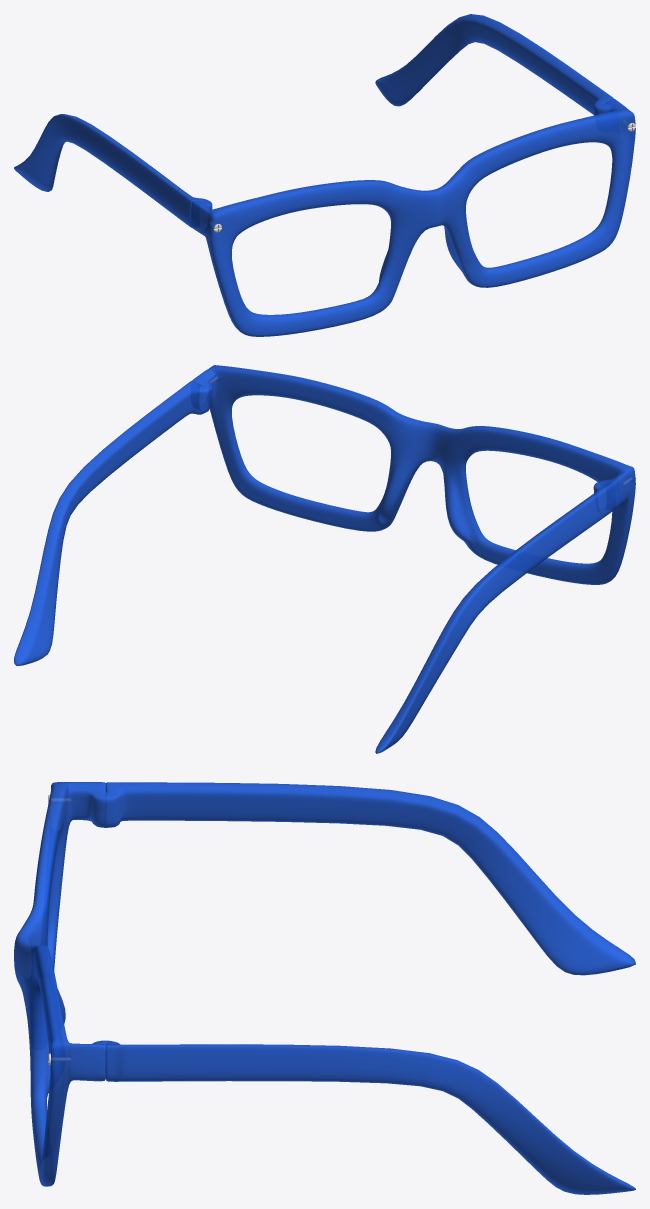
3 renders of one model, top to bottom at view 1: azimuth 30°, elevation 25°; view 2: azimuth 150°, elevation 25°; view 3: azimuth 270°, elevation 25°, orthographic. The views are drawn at different scales.
Parts seen in each view (by area): view 1: Cube.011; view 2: Cube.011; view 3: Cube.011.
Boxes of the visible parts, box(x1,y1,x2,y2) form: Cube.011: box(14, 14, 635, 336); Cube.011: box(14, 365, 635, 753); Cube.011: box(14, 782, 635, 1194).
Bounding box in the file's own units: 1.08 × 0.3409 × 1.06.
